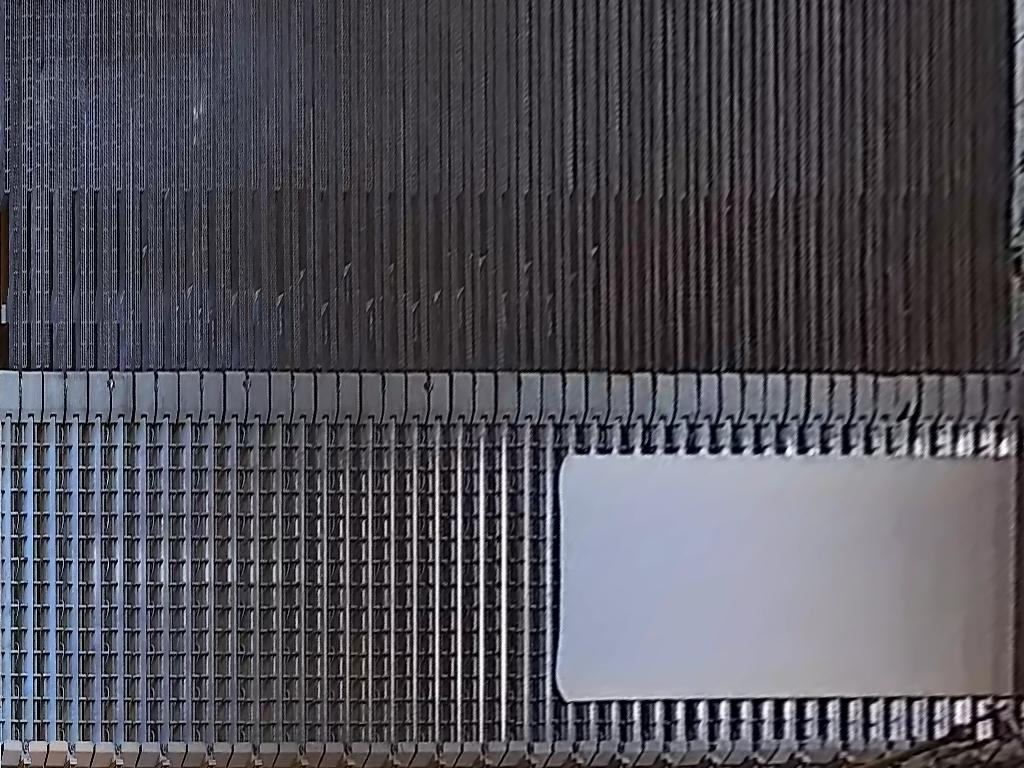steel: (555, 454, 1024, 702)
